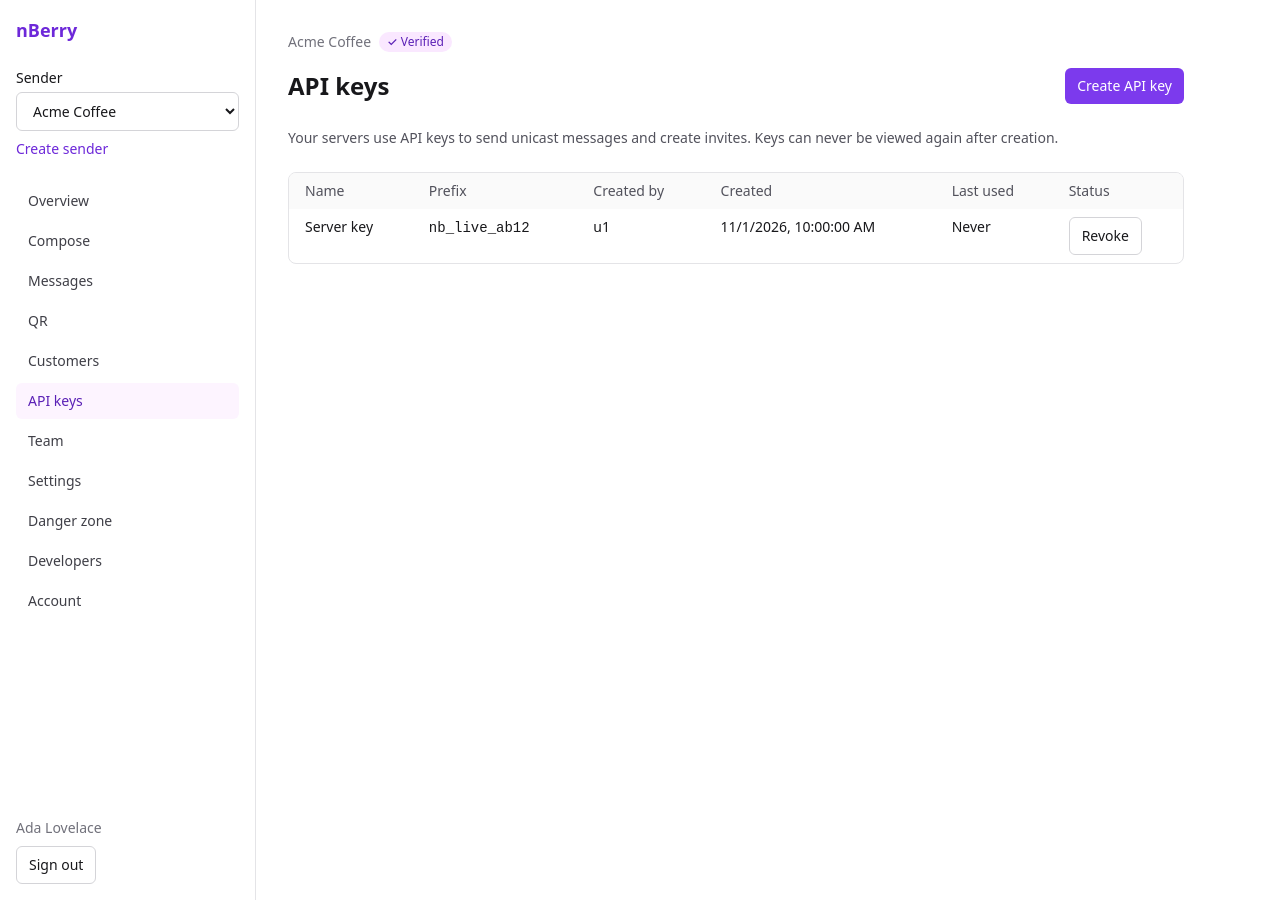
it: API keys › revoke requires confirm and marks the key revoked
Step 1. Click the button with aria-label "Revoke Server key" → (1105, 236), box [1069, 217, 1142, 255]
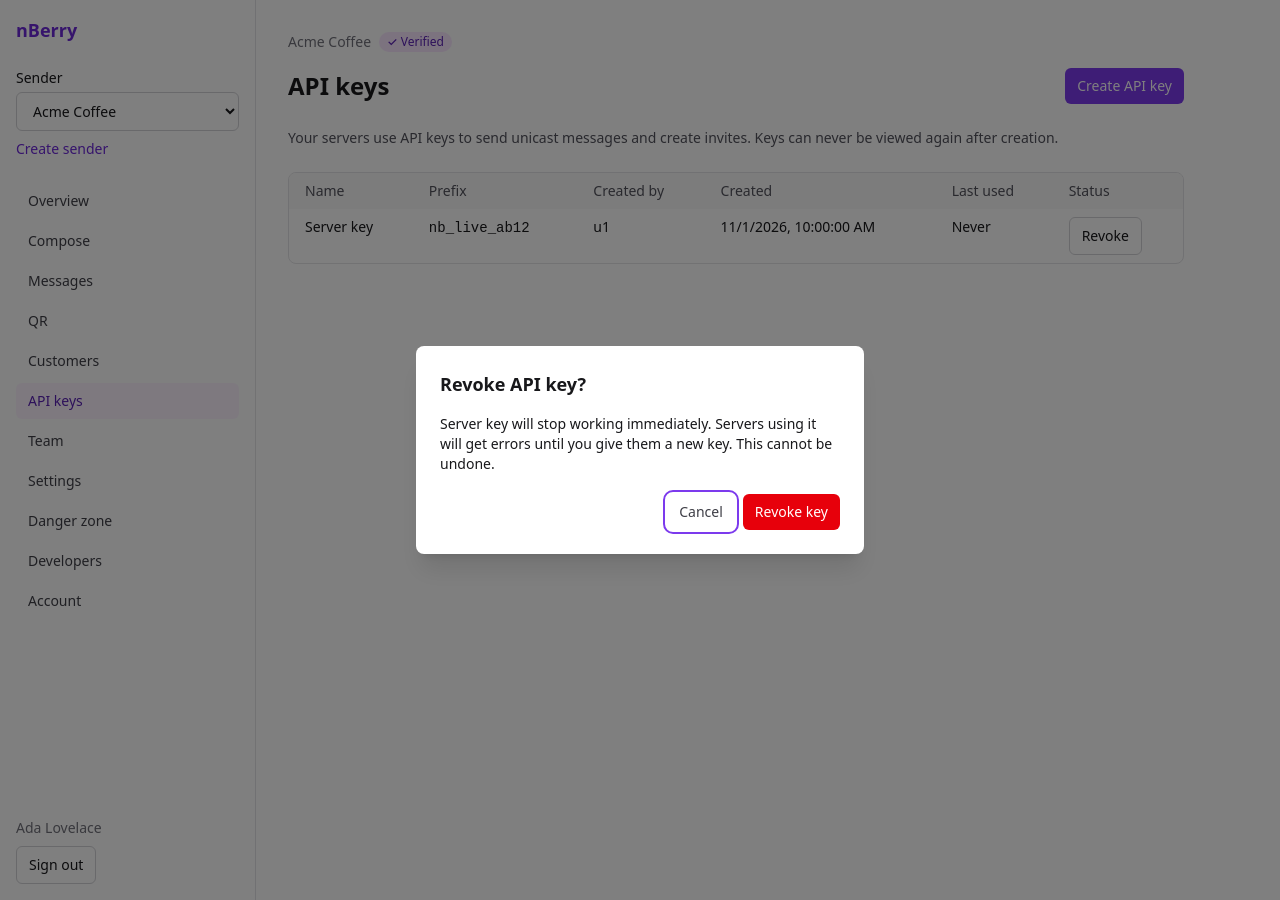
Expected: the text "stop working immediately" is shown, [440, 414, 832, 473]
Step 2. Click the button "Cancel" → (701, 512), box [667, 494, 735, 530]
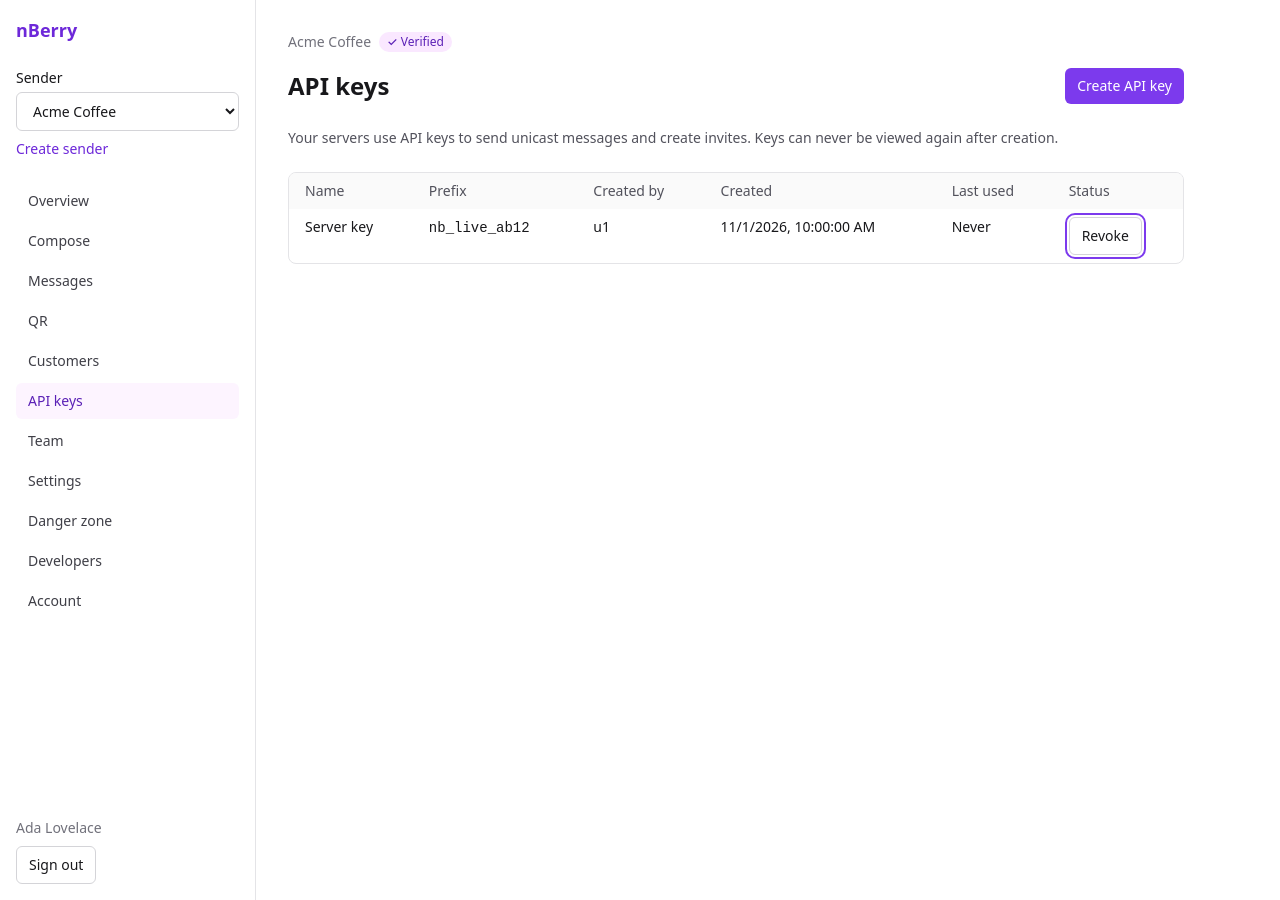
Step 3. Click the button with aria-label "Revoke Server key" → (1105, 236), box [1069, 217, 1142, 255]
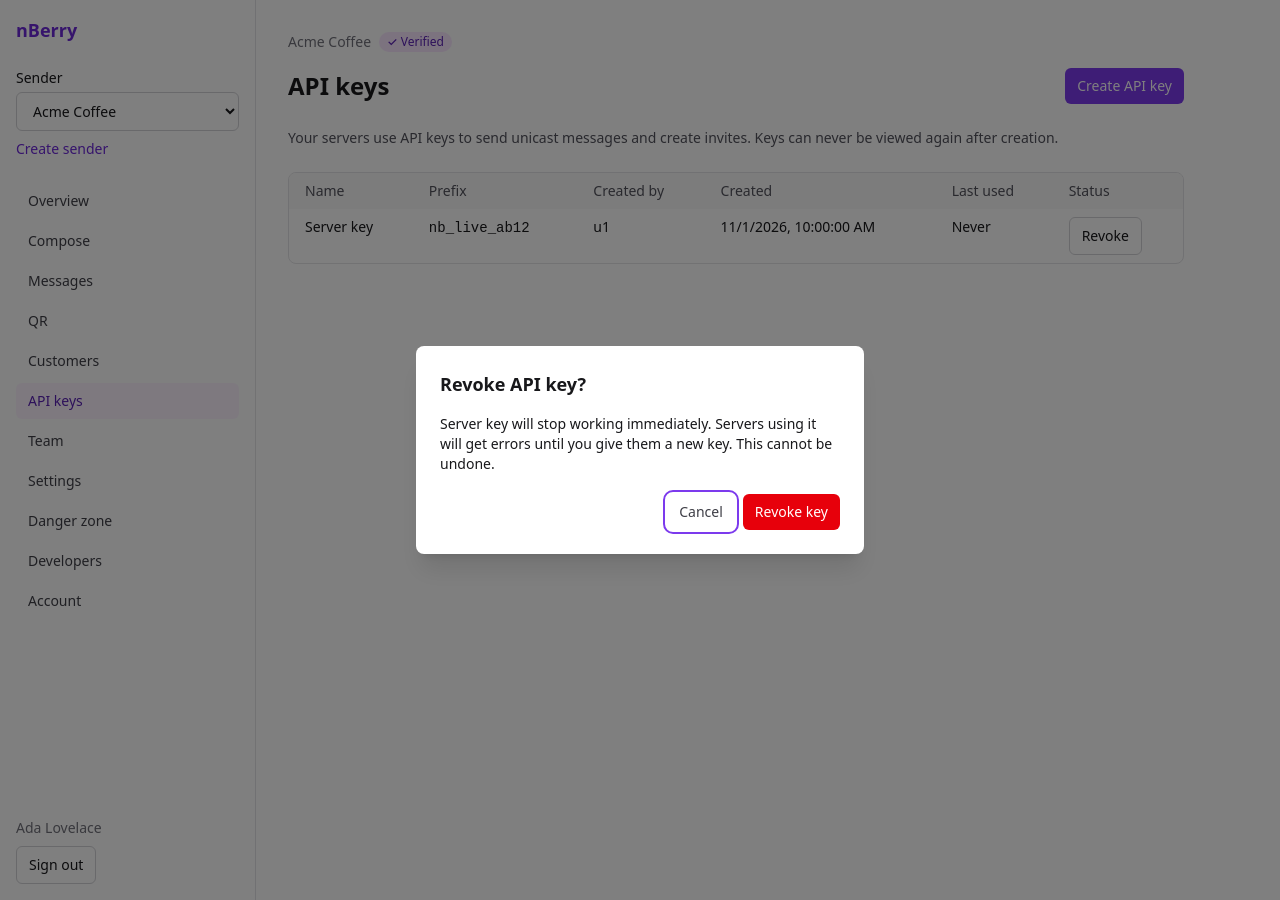
Step 4. Click the button "Revoke key" → (791, 512), box [743, 494, 840, 530]
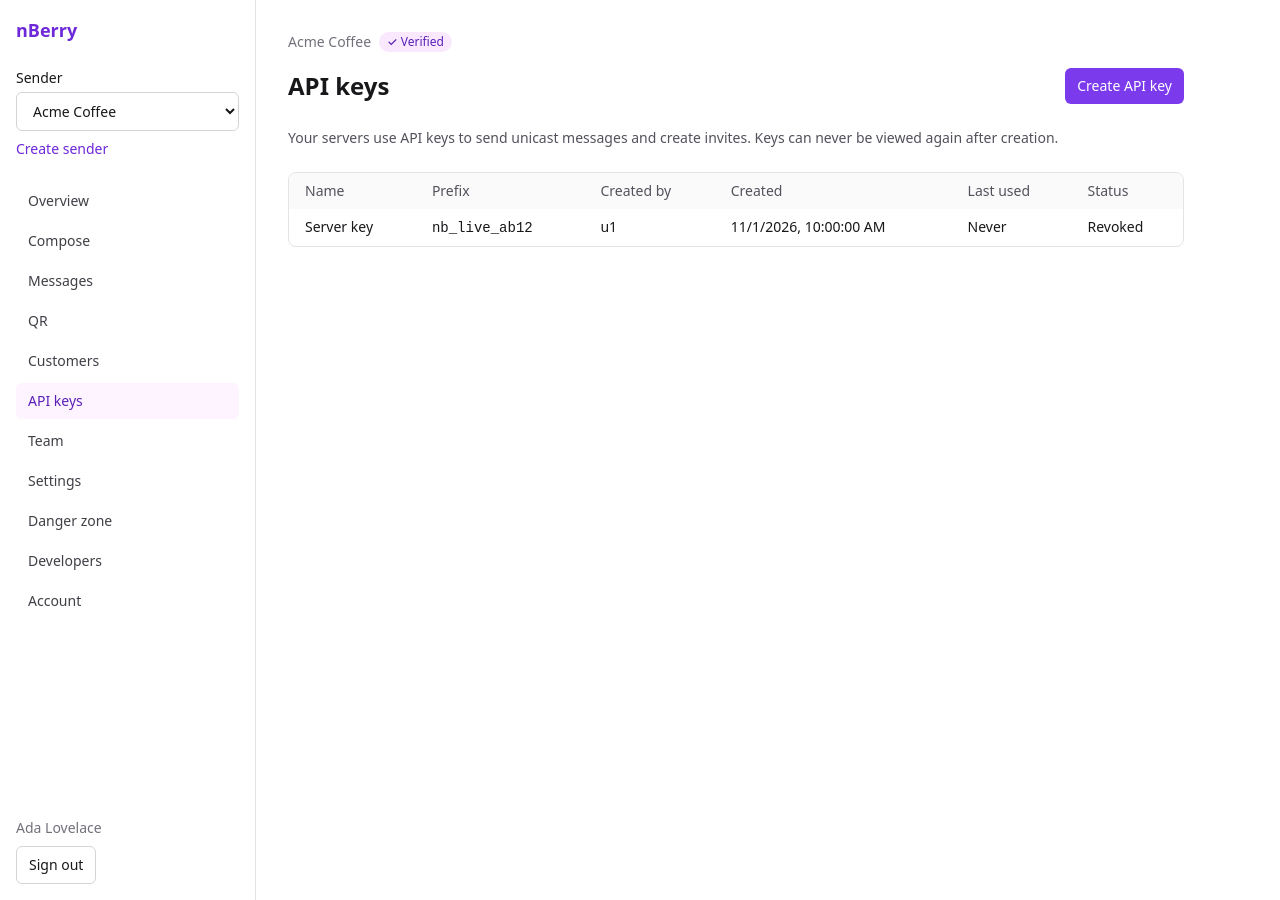
Expected: the text "Revoked" is shown, [1088, 217, 1143, 236]
